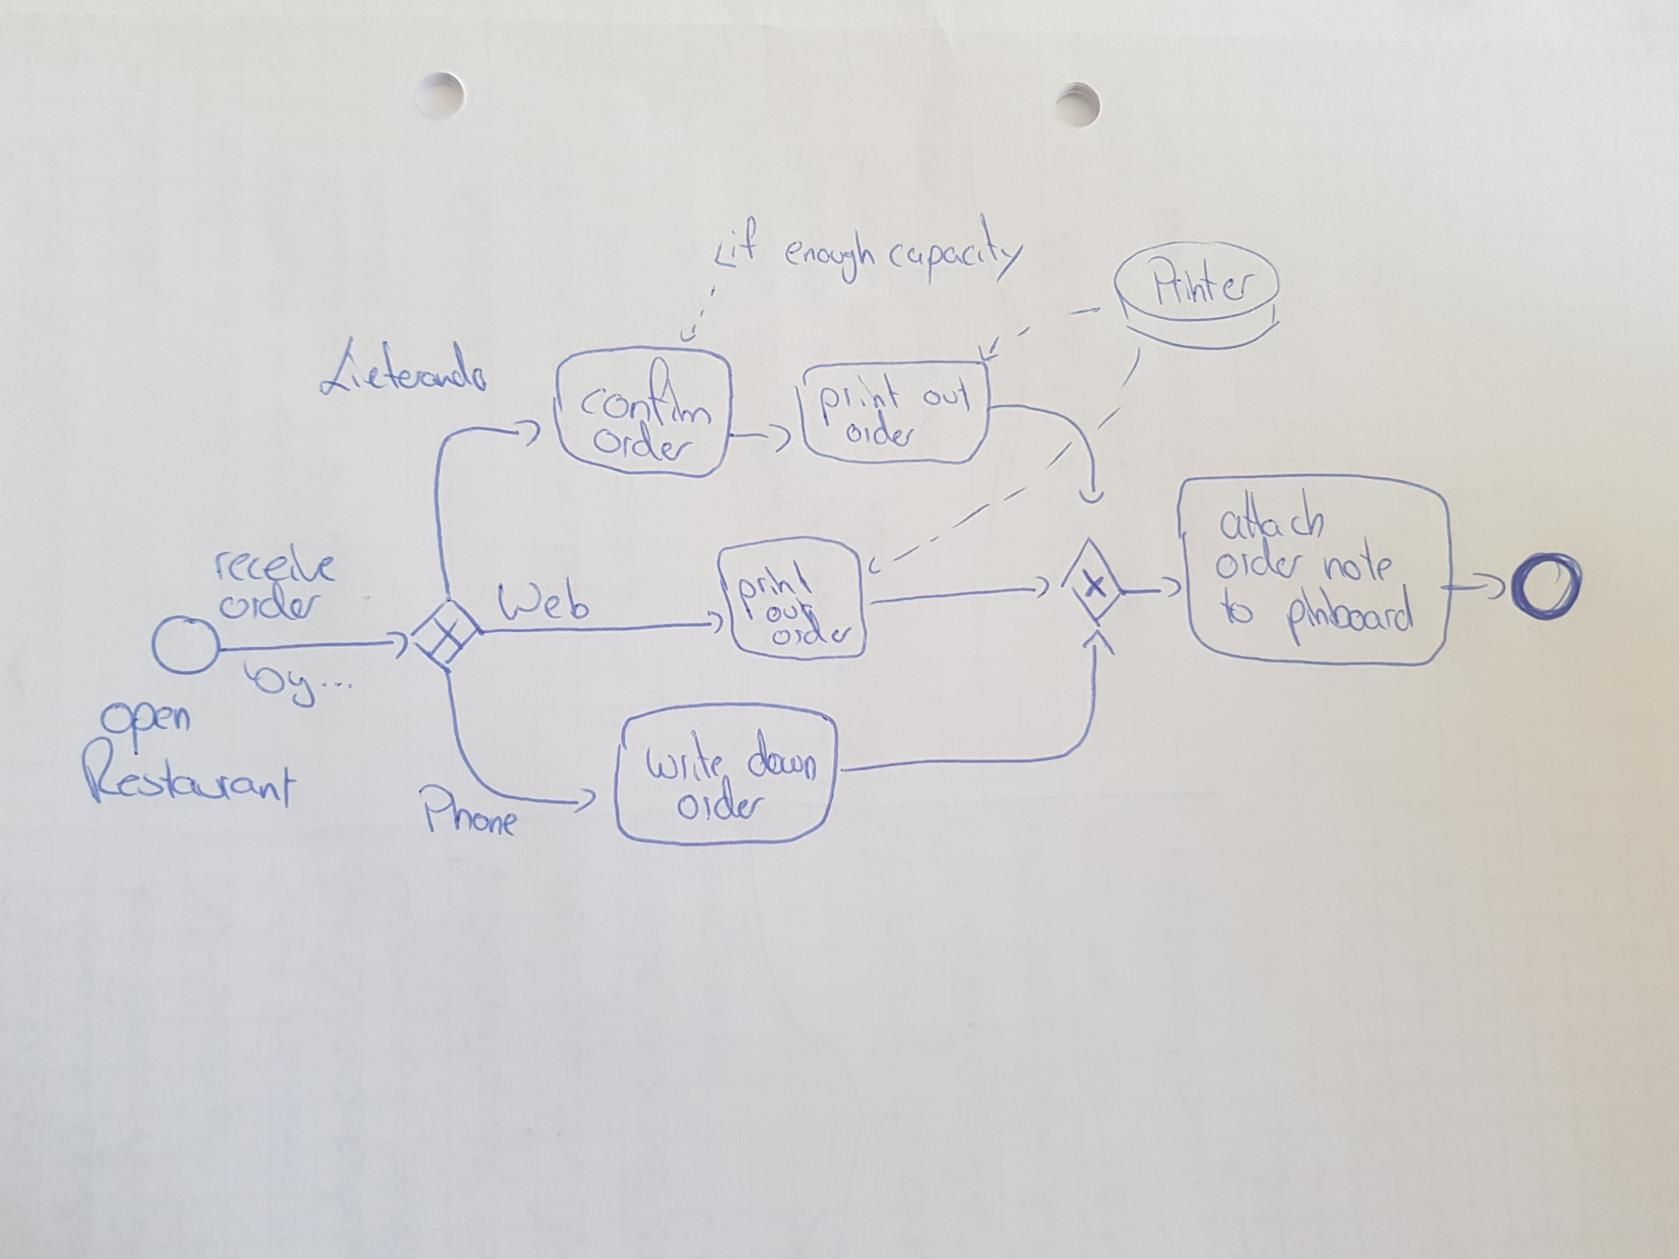Lieferando: (315, 335, 489, 395)
Phone: (418, 782, 521, 842)
Printer: (1148, 251, 1260, 307)
Restaurant: (75, 733, 299, 811)
Web: (494, 575, 594, 623)
attach: (1216, 491, 1329, 541)
by: (238, 657, 316, 714)
capacity: (883, 214, 1029, 284)
confim: (578, 358, 719, 425)
down: (746, 727, 818, 783)
enough: (780, 227, 880, 286)
if: (727, 210, 763, 263)
note: (1319, 540, 1396, 585)
open: (97, 700, 194, 754)
order: (676, 775, 769, 827), (215, 581, 327, 623), (590, 418, 697, 462), (1214, 537, 1309, 583), (842, 407, 919, 451), (767, 615, 857, 648)
out: (919, 374, 974, 415), (763, 598, 818, 624)
pinboard: (1284, 582, 1420, 648)
print: (735, 557, 817, 618), (816, 372, 906, 426)
receive: (210, 541, 340, 589)
to: (1218, 585, 1257, 626)
write: (643, 734, 728, 782)
